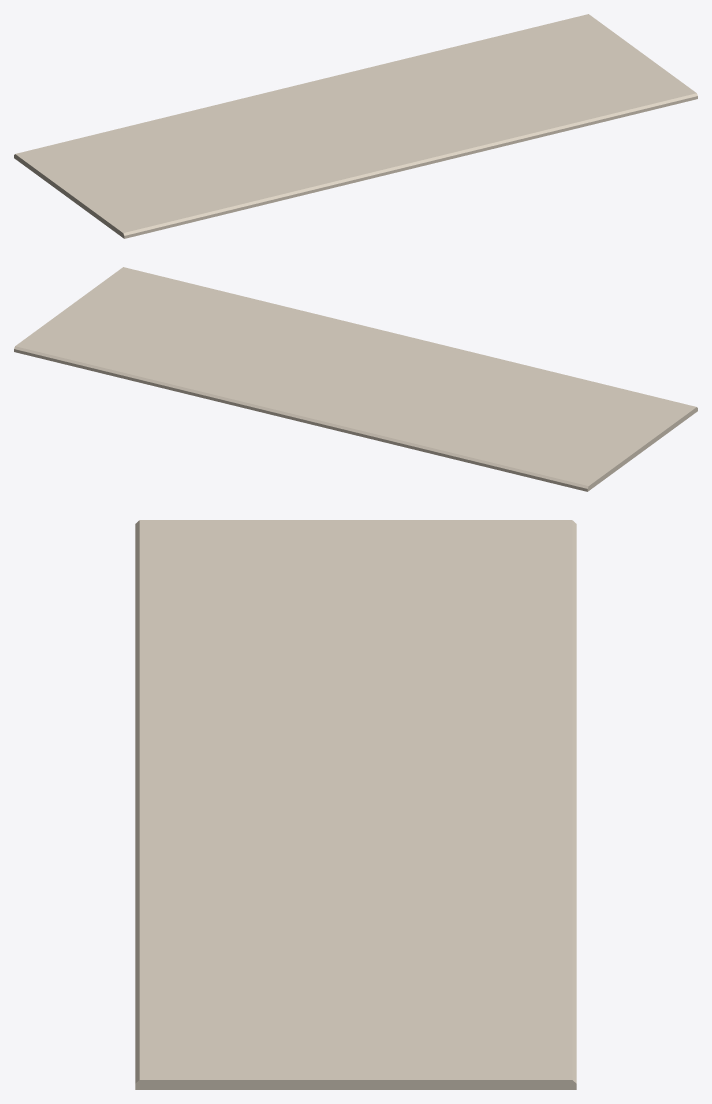
File: SM_VKI_Runner_300.fbx
3 views of the same model, one above another, from view 1: azimuth 30°, elevation 25°; view 2: azimuth 150°, elevation 25°; view 3: azimuth 270°, elevation 25° (orthographic). The views are drawn at different scales.
Visible parts, largest first — view 1: SM_VKI_Runner_300.001; view 2: SM_VKI_Runner_300.001; view 3: SM_VKI_Runner_300.001.
Part boxes in pixels (x1=…): SM_VKI_Runner_300.001: x1=14, y1=14, x2=697, y2=238; SM_VKI_Runner_300.001: x1=14, y1=267, x2=697, y2=491; SM_VKI_Runner_300.001: x1=135, y1=520, x2=576, y2=1089.
Bounding box in the file's own units: 3 × 0.025 × 1.
